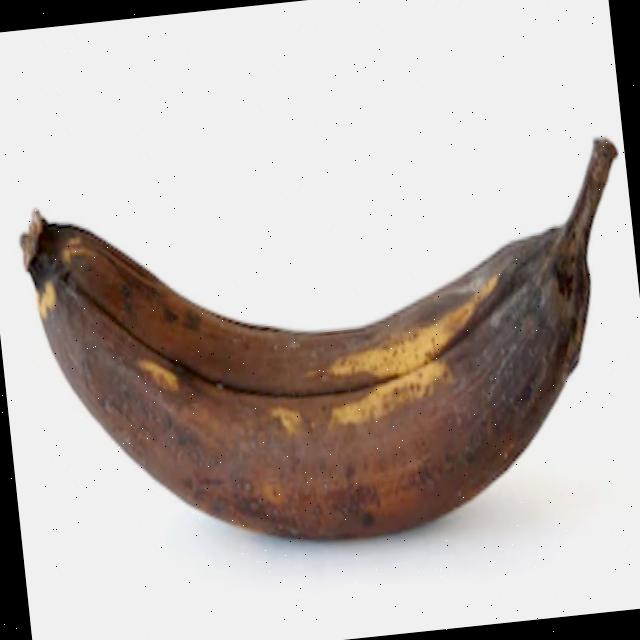rotten banana: (0, 43, 640, 630)
